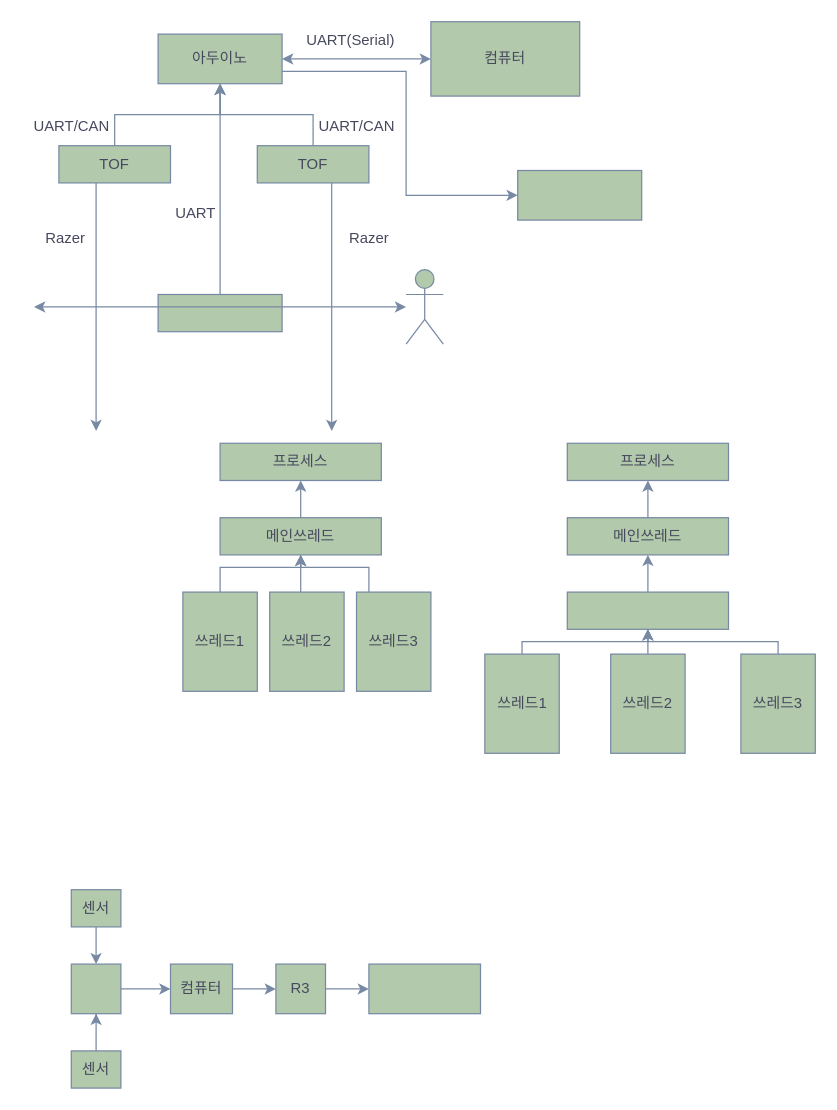
Image size: 837x1110. Some labels were removed from this diagram. The centre of each missing label's shape, as x and y in pixels:
"Actor" goes at pixel 424 306.
"LCD" goes at pixel 424 988.
"LCD 출력!" goes at pixel 579 194.
"R4" goes at pixel 95 988.
"압력센서" goes at pixel 219 312.
"처리쓰레드" goes at pixel 647 610.
